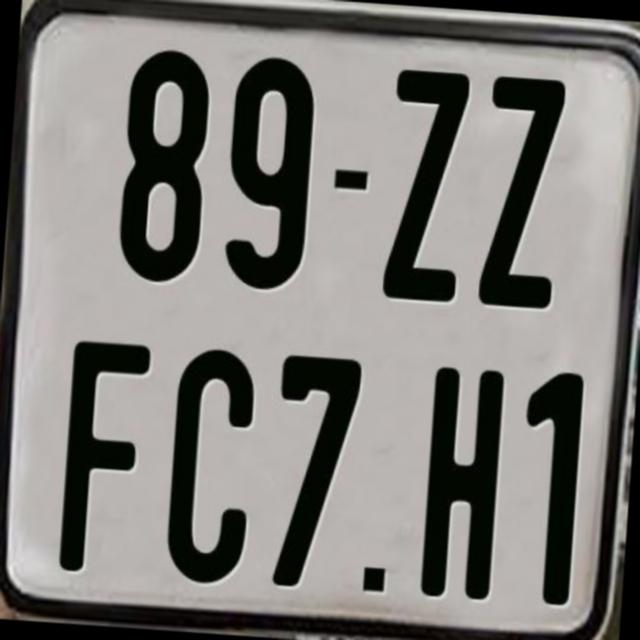1: (509, 369, 581, 606)
7: (262, 352, 358, 592)
8: (113, 42, 213, 286)
9: (218, 54, 318, 298)
C: (164, 342, 259, 584)
F: (54, 334, 150, 578)
H: (417, 364, 509, 604)
Z: (473, 72, 567, 310), (381, 65, 470, 299)
